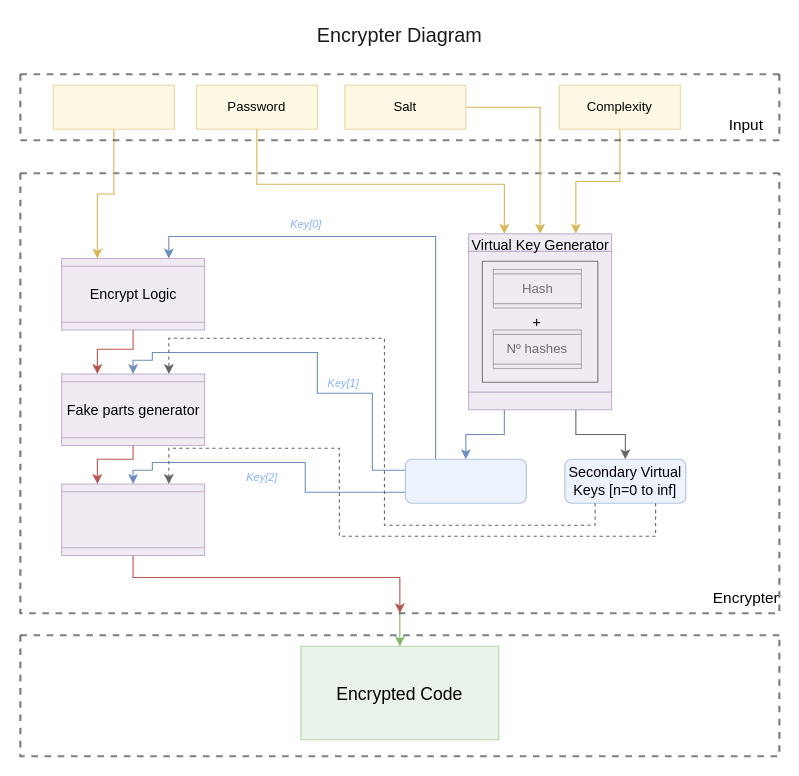
The diagram is 799 pixels wide and 776 high, and some of its shapes have lost their labels. Each missing label, with the centre of its shape:
"Message" goes at point (113, 106).
"Output" goes at point (399, 695).
"Principal Virtual Keys [n = 3]" goes at point (465, 480).
"Shuffle code" goes at point (133, 519).
